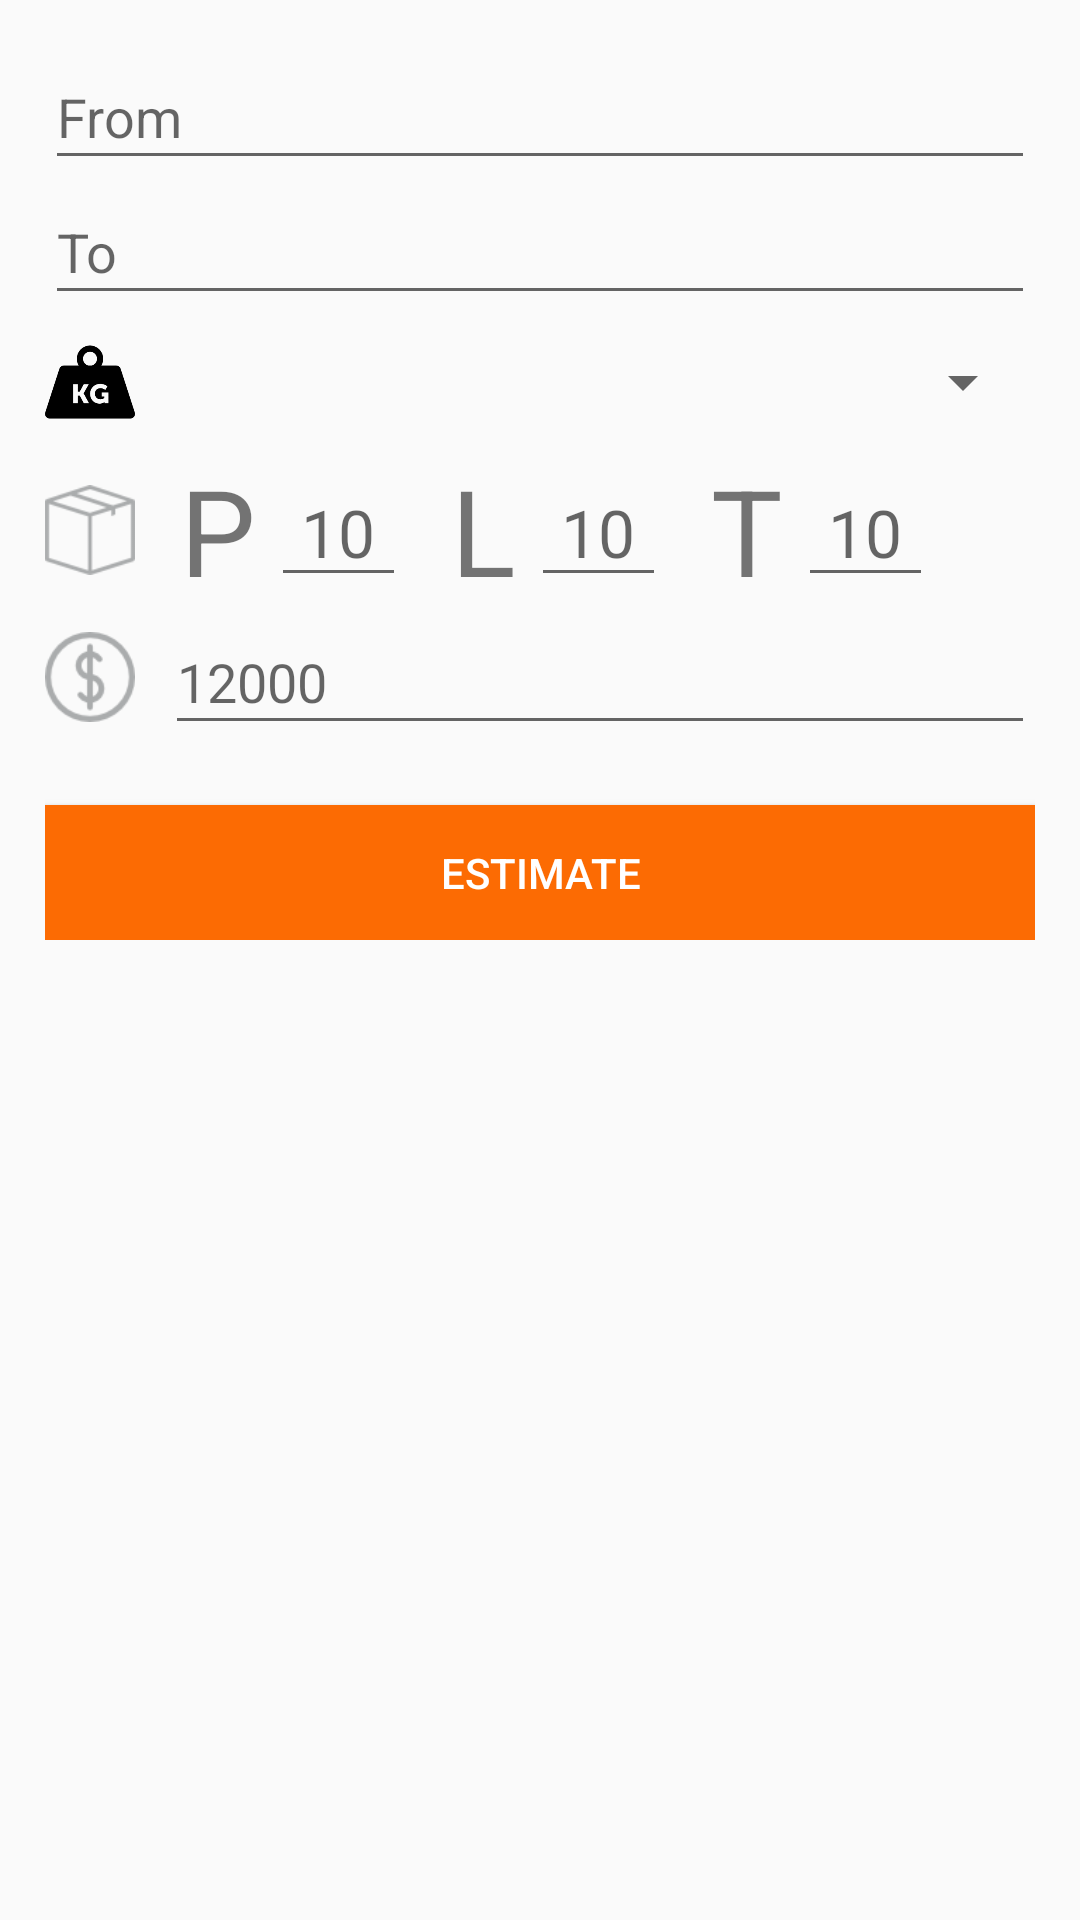

Icons on this 1080×1920 Android screen, each with the point to tap as (x,y):
box: (90,530)
coin: (90,677)
